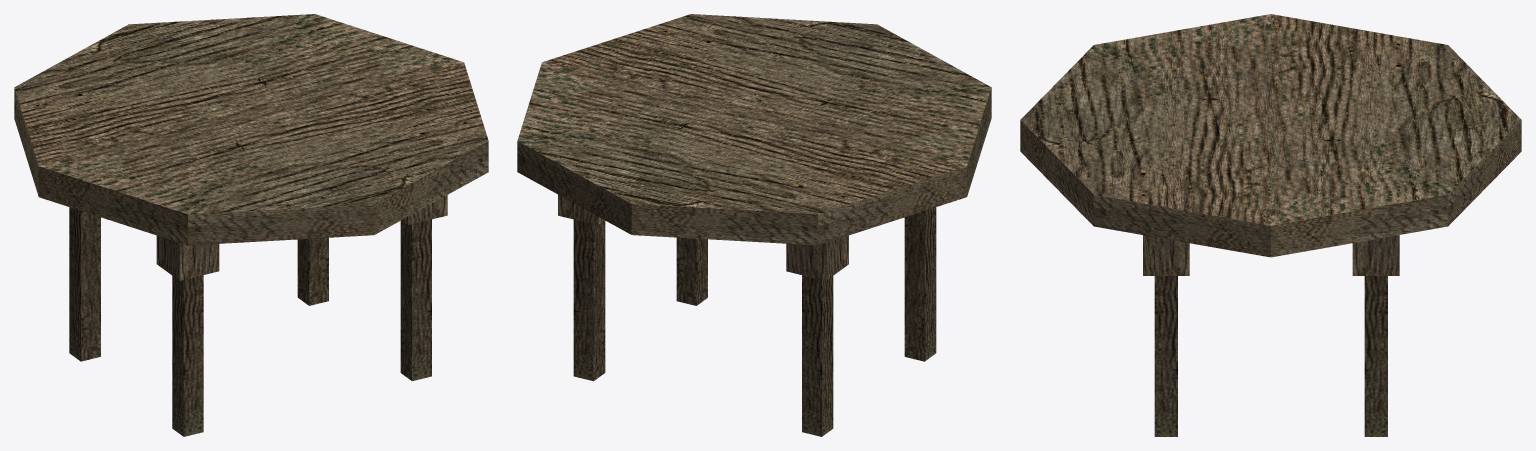
Rendered from mm9_deco_tableround2.glb.
3 renders of one model, left to right at view 1: azimuth 30°, elevation 25°; view 2: azimuth 150°, elevation 25°; view 3: azimuth 270°, elevation 25°, orthographic. The views are drawn at different scales.
Parts seen in each view (by area): view 1: Tableround2; view 2: Tableround2; view 3: Tableround2.
Part boxes in pixels (left/top/right/bottom): Tableround2: left=14, top=14, right=488, bottom=436; Tableround2: left=517, top=14, right=991, bottom=436; Tableround2: left=1020, top=14, right=1521, bottom=436.
Size of the model in its own units: 2 by 1.13 by 2.
Materials: 2 (2 with a texture image).
